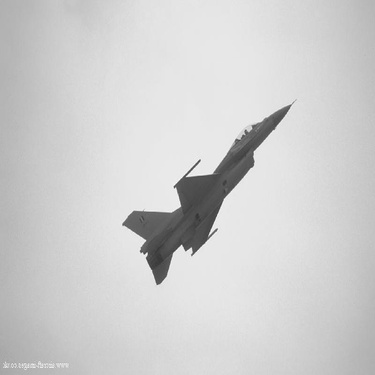airplane: (118, 96, 303, 293)
